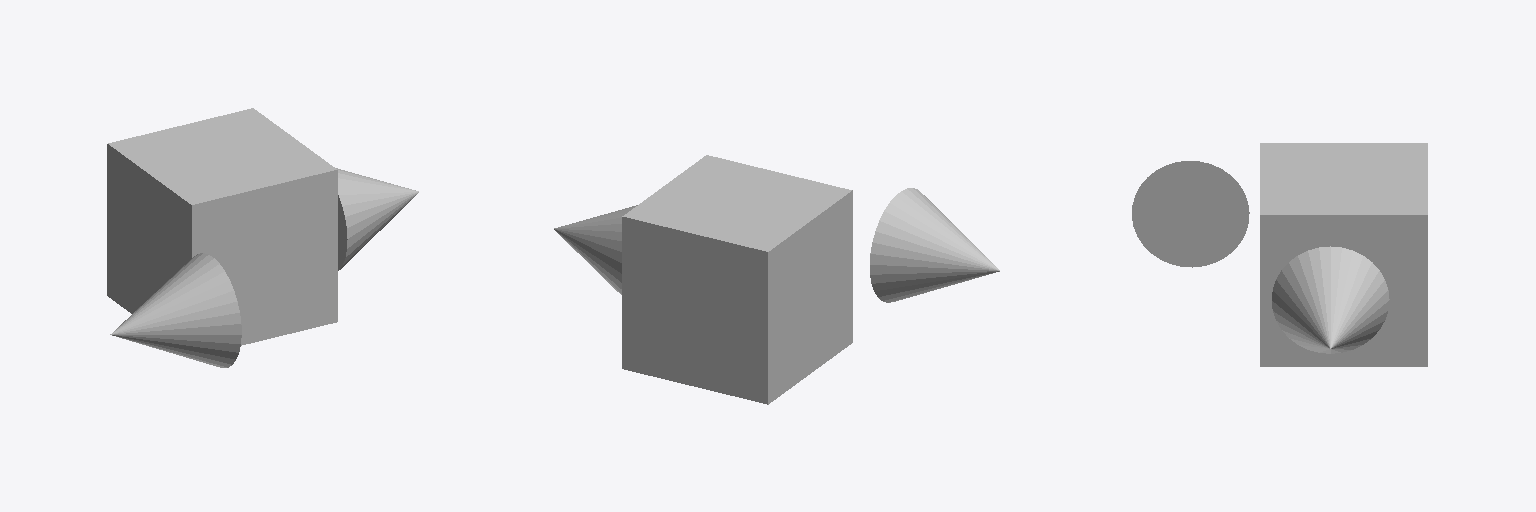
The model's file is inc-paddle-width.obj.
3 views of the same model, side by side, from view 1: azimuth 30°, elevation 25°; view 2: azimuth 150°, elevation 25°; view 3: azimuth 270°, elevation 25° (orthographic).
Parts seen in each view (by area): view 1: Cube; view 2: Cube; view 3: Cube.
Boxes of the visible parts, x1=… form: Cube: x1=107, y1=108, x2=418, y2=367; Cube: x1=554, y1=155, x2=999, y2=404; Cube: x1=1132, y1=143, x2=1427, y2=366.
Bounding box in the file's own units: 1.3 × 0.5 × 0.8801.